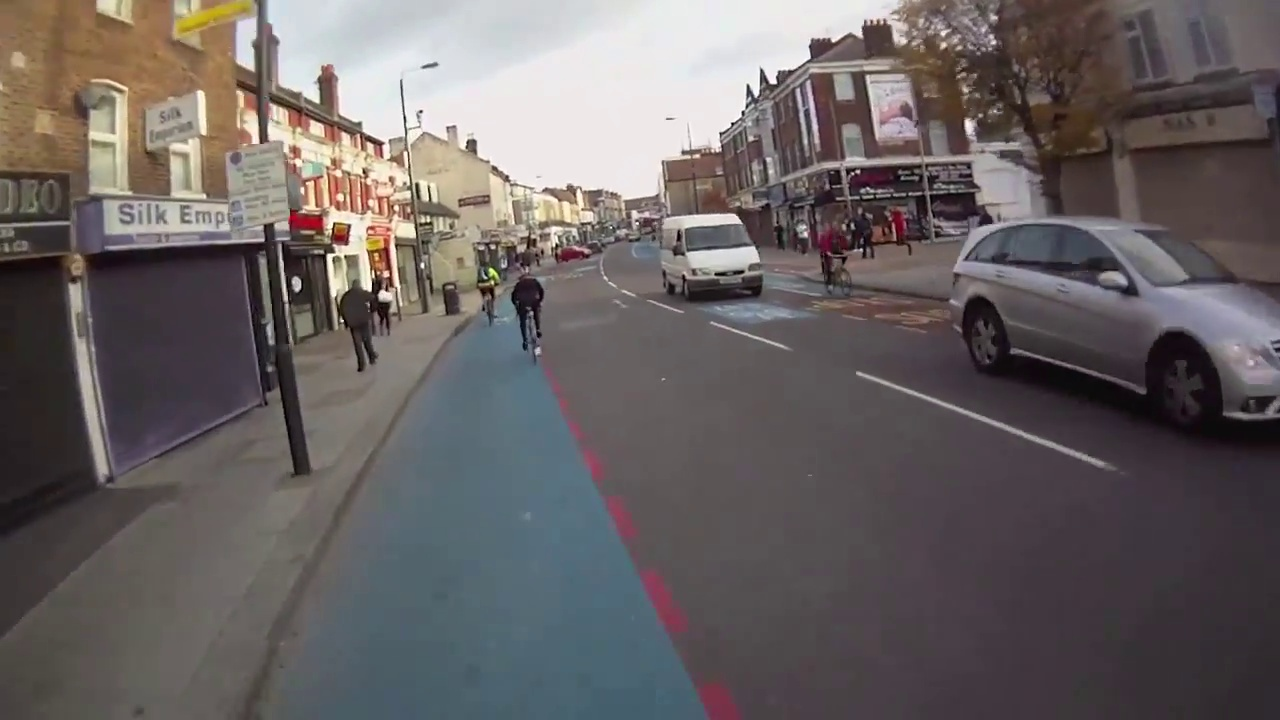cyclist_back: (512, 270, 555, 370), (472, 253, 503, 326)
cyclist_front: (808, 222, 855, 299)
